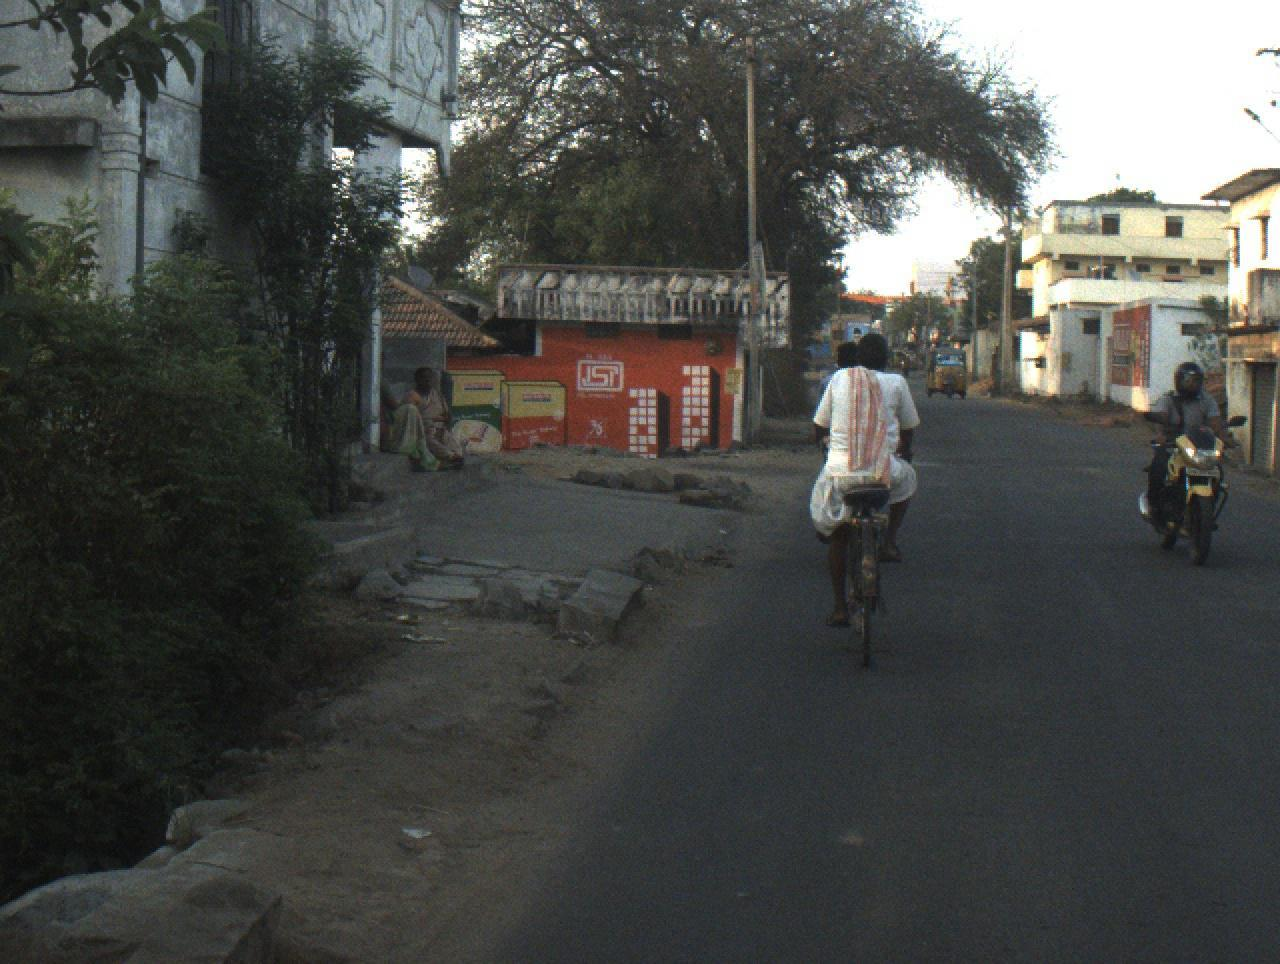off: (160, 21, 1280, 964)
